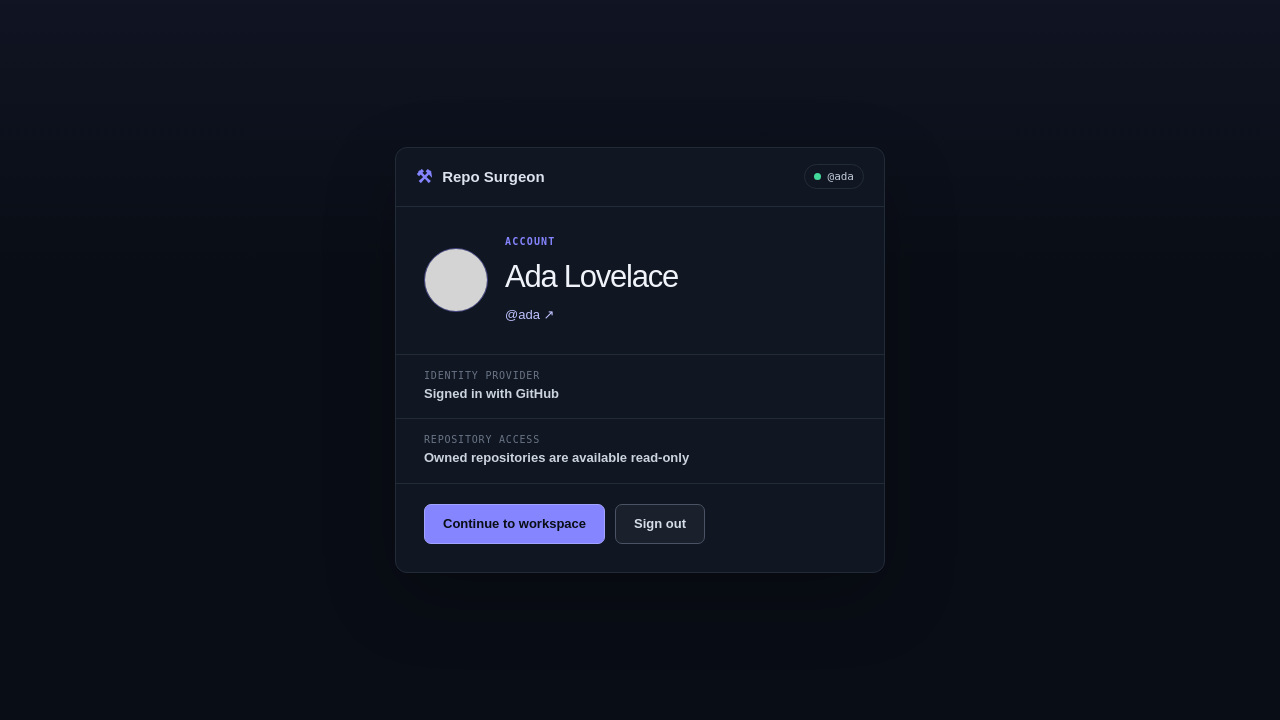
Scenario: identity journey › keeps a failed logout honest and retryable
This screenshot has width=1280, height=720.
Expected: the heading "Ada Lovelace" is shown, x1=505 y1=255 x2=678 y2=300
Step 1. Click the button "Sign out" → {"x": 660, "y": 524}, box x1=615 y1=504 x2=705 y2=544
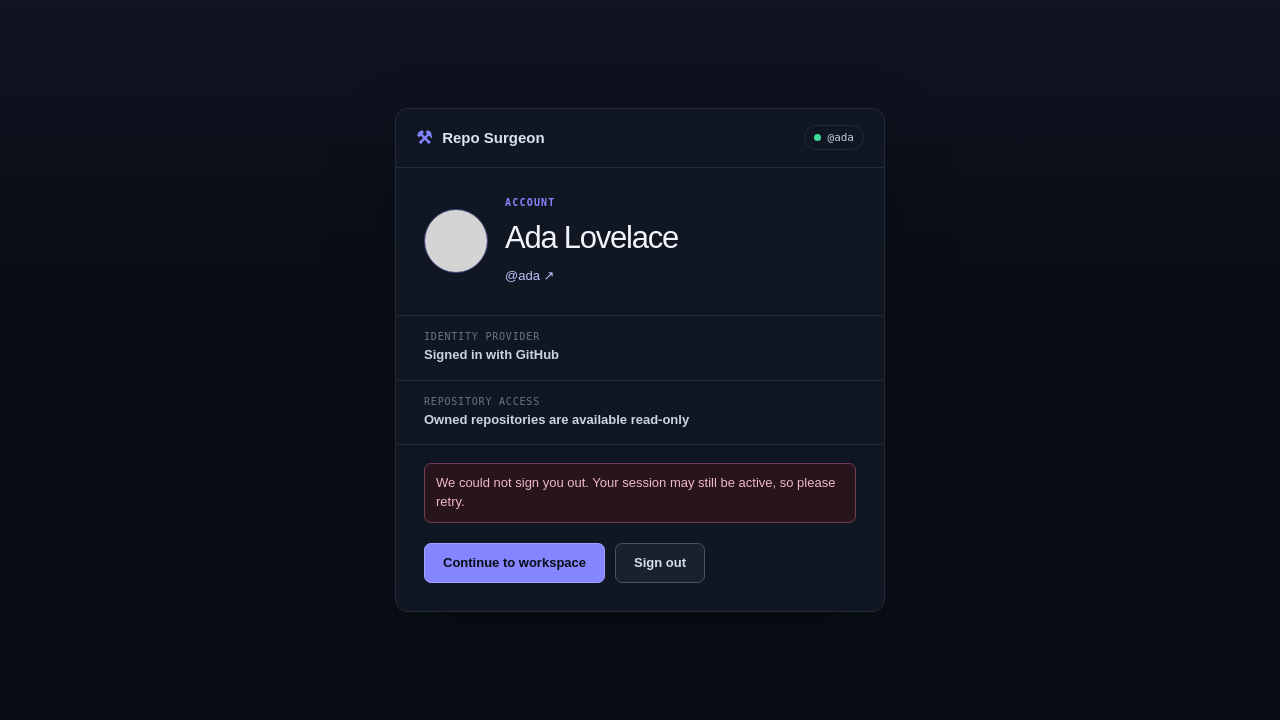
Expected: the button "Sign out" is enabled, x1=615 y1=543 x2=705 y2=583
Expected: the message reads "We could not sign you out. Your session may still be active, so please retry.", x1=436 y1=475 x2=835 y2=509
